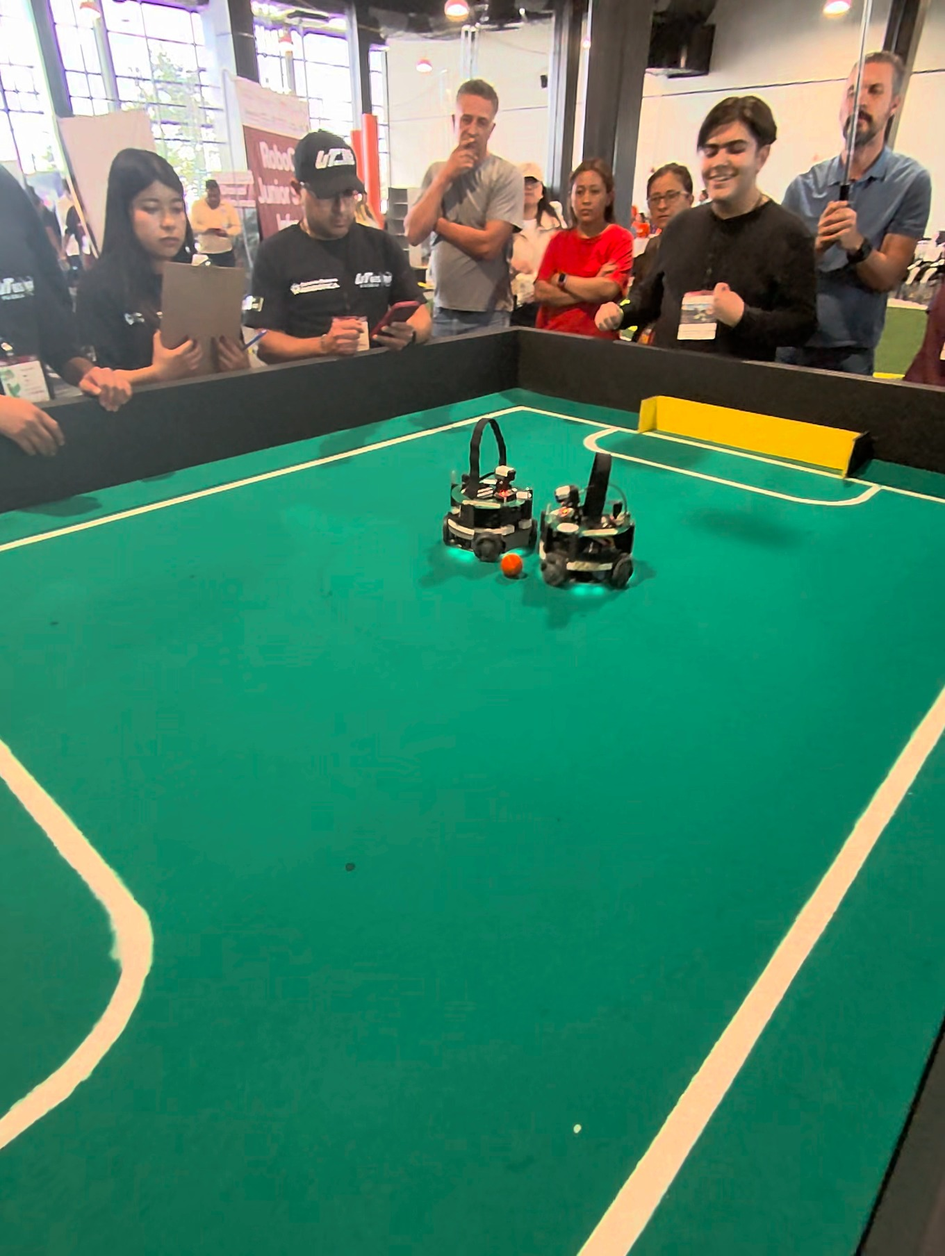Robot: (542, 443, 642, 611), (443, 412, 535, 574)
pelota: (498, 540, 531, 582)
